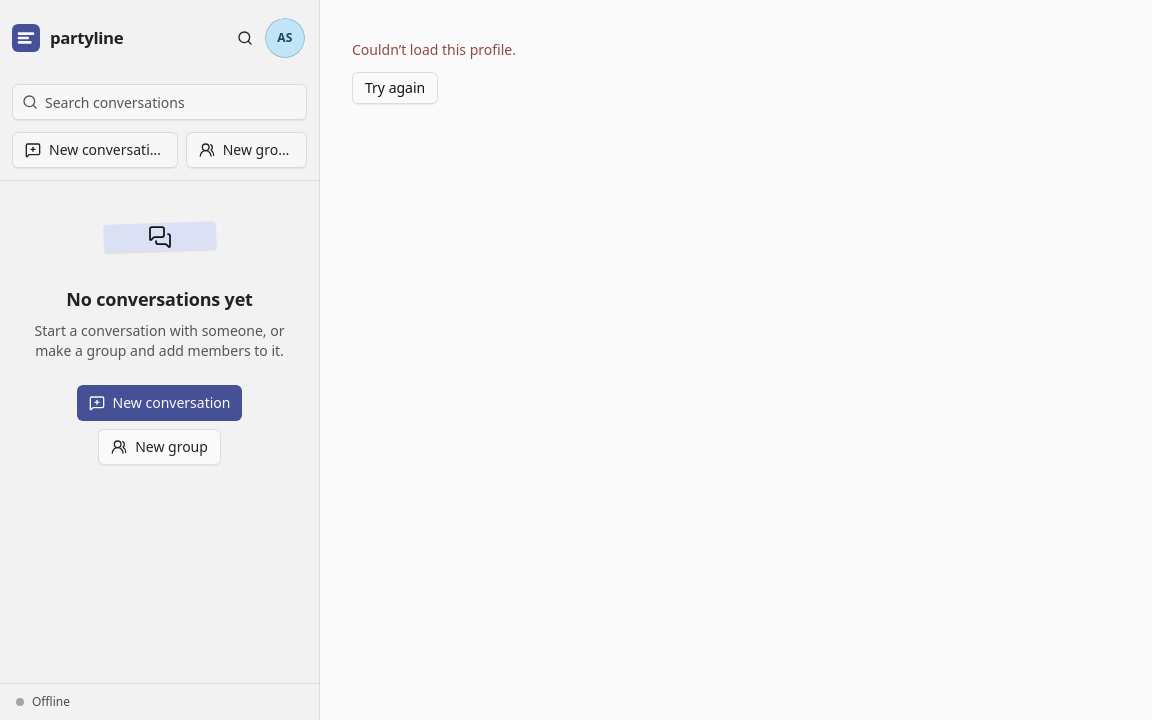
Test case: reading a profile (PROF-09) › shows an error with a way to try again when the profile does not load
The width and height of the screenshot is (1152, 720).
Check: the message shows "Couldn’t load this profile.", box [352,40,516,59]
Click the button "Try again" at (395, 88), box [352,72,438,104]
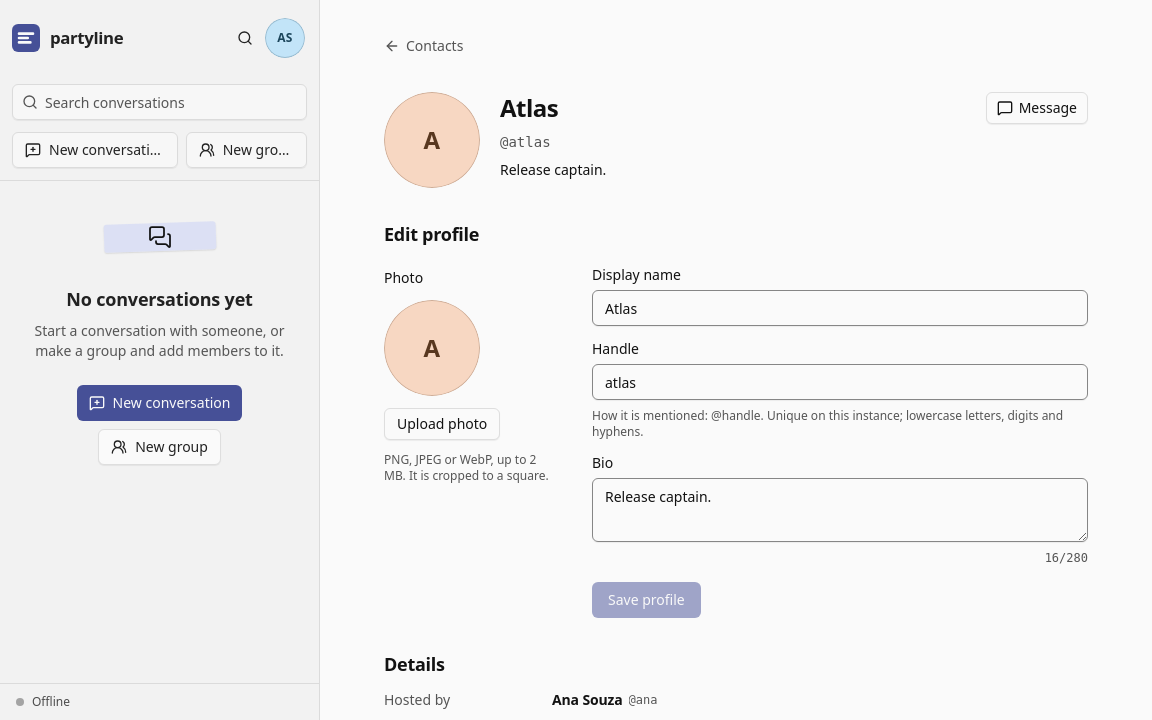
Check: the heading "Atlas" is shown, box [500,91,558,124]
